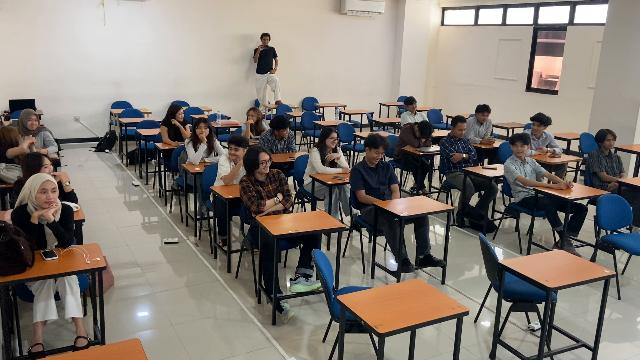senang: (39, 186, 58, 206), (258, 155, 272, 173), (371, 147, 385, 164), (227, 144, 243, 158), (513, 143, 528, 157), (42, 159, 55, 174), (531, 121, 544, 135), (327, 133, 339, 148), (27, 116, 38, 129), (196, 124, 210, 134), (457, 124, 467, 138), (605, 137, 616, 149), (247, 111, 258, 122), (479, 112, 490, 123), (280, 127, 290, 137), (177, 110, 185, 121), (409, 102, 418, 111)
